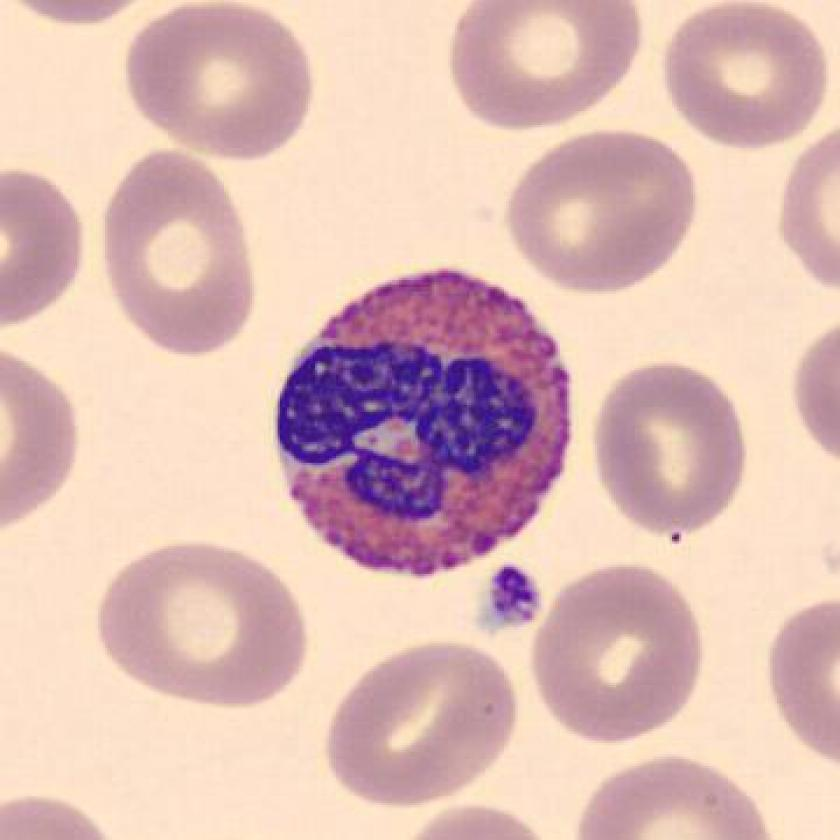eosinophil: (265, 258, 591, 600)
